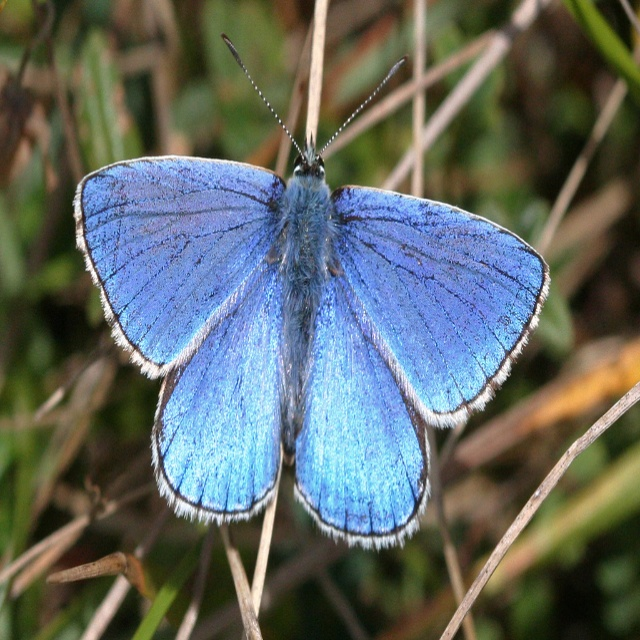Butterfly: (80, 17, 525, 564)
